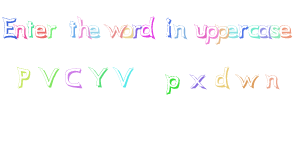C: (61, 66, 86, 89)
E: (1, 13, 18, 40)
P: (14, 59, 33, 92)
V: (110, 64, 136, 88), (36, 64, 60, 88)
Y: (88, 65, 110, 89)
a: (257, 22, 271, 43)
c: (248, 23, 260, 41)
d: (212, 64, 234, 91), (140, 10, 157, 40)
e: (87, 21, 102, 40), (280, 22, 294, 40), (35, 23, 47, 41), (227, 24, 239, 40)
h: (77, 18, 89, 40)
i: (161, 16, 174, 39)
n: (262, 71, 289, 91), (173, 18, 187, 40), (13, 20, 27, 41)
o: (121, 21, 134, 41)
p: (161, 66, 180, 98), (217, 24, 230, 47), (207, 25, 218, 48)
r: (46, 21, 60, 41), (237, 21, 248, 41)
s: (270, 22, 280, 44)
t: (65, 17, 78, 39), (25, 17, 34, 39), (133, 20, 142, 40)
u: (192, 19, 208, 40)
w: (234, 68, 261, 93), (103, 20, 126, 42)
x: (187, 68, 209, 95)
